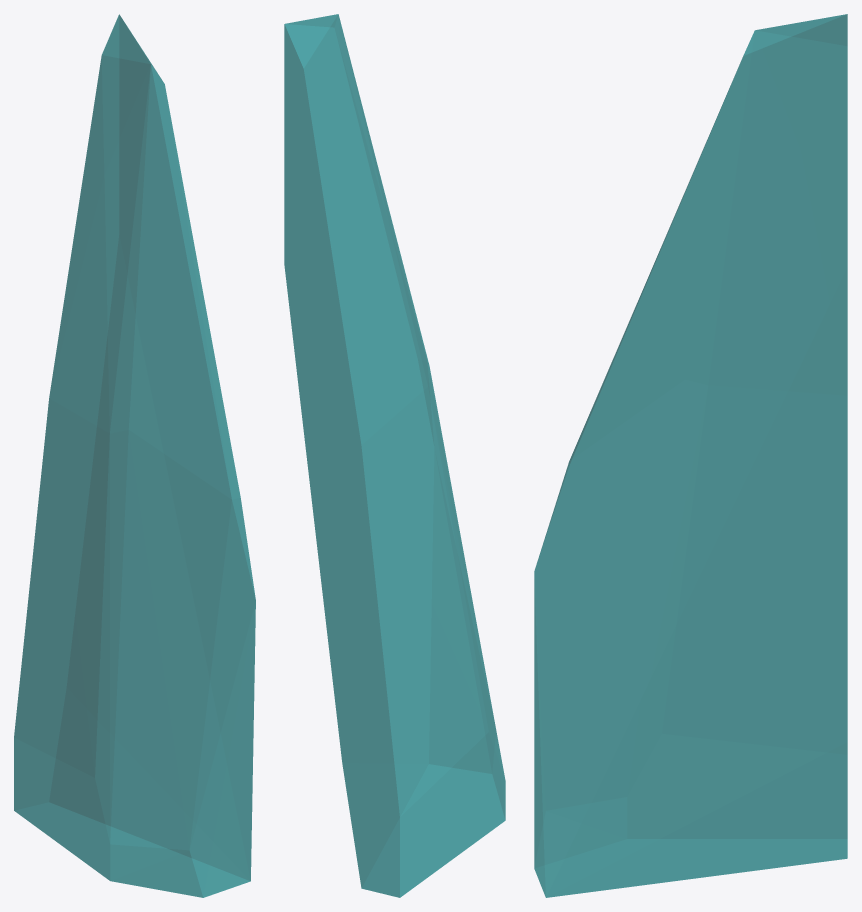
3 renders of one model, left to right at view 1: azimuth 30°, elevation 25°; view 2: azimuth 150°, elevation 25°; view 3: azimuth 270°, elevation 25°, orthographic. The views are drawn at different scales.
Visible parts, largest first — view 1: Shape_IndexedFaceSet.026_Shape_IndexedFaceSet.15647; view 2: Shape_IndexedFaceSet.026_Shape_IndexedFaceSet.15647; view 3: Shape_IndexedFaceSet.026_Shape_IndexedFaceSet.15647.
Boxes of the visible parts, bbox=[...] form: Shape_IndexedFaceSet.026_Shape_IndexedFaceSet.15647: bbox=[14, 14, 255, 897]; Shape_IndexedFaceSet.026_Shape_IndexedFaceSet.15647: bbox=[284, 14, 505, 897]; Shape_IndexedFaceSet.026_Shape_IndexedFaceSet.15647: bbox=[534, 14, 847, 897].
Bounding box in the file's own units: 0.0114 × 0.0801 × 0.0257.
